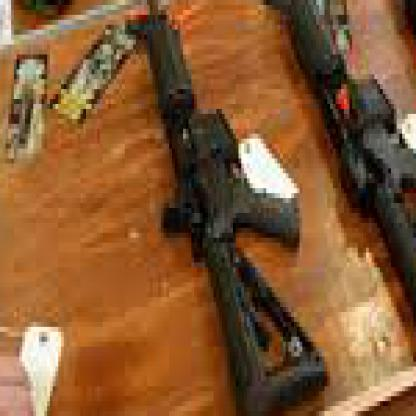gun: (92, 45, 413, 411)
